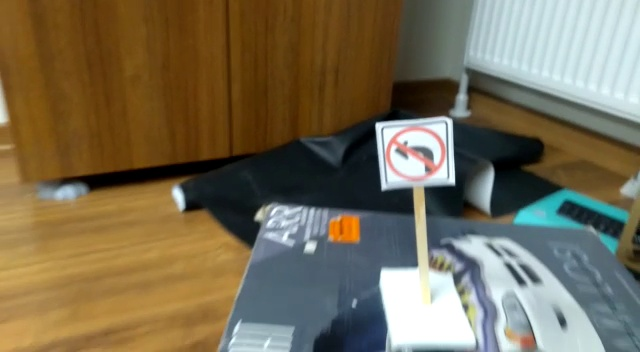sola_donulmez: (385, 122, 451, 183)
